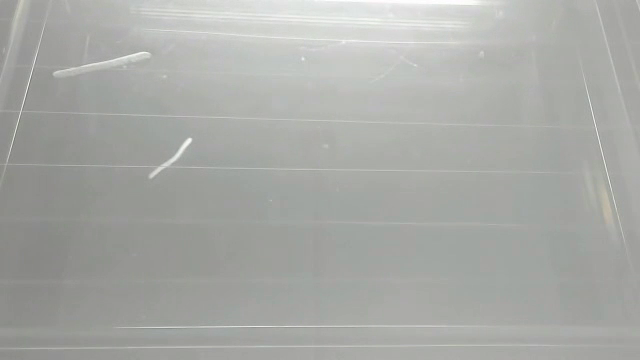alpha: (49, 50, 155, 80), (146, 134, 196, 183)
